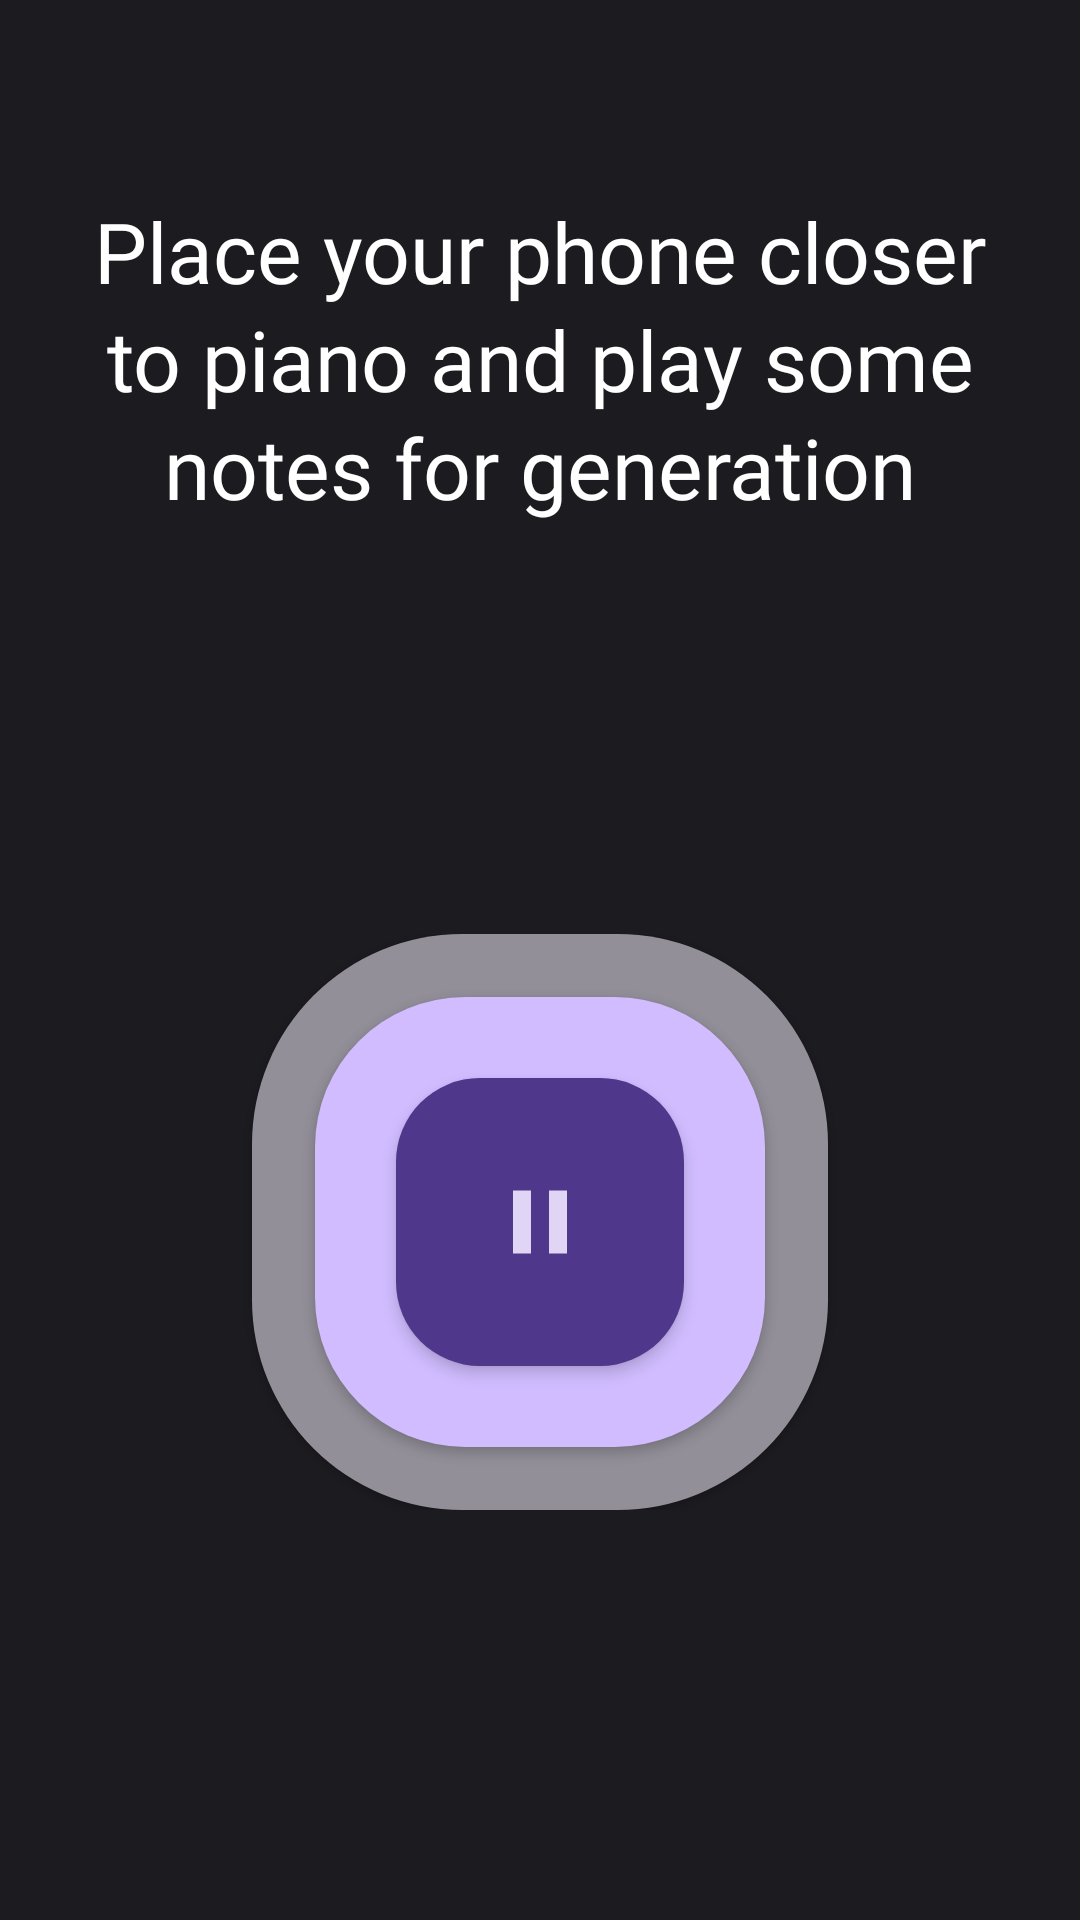

Icons on this 1080w x 1920h Android screen, each with the point to tap as (x=x, y=y):
pause: (x=540, y=1222)
